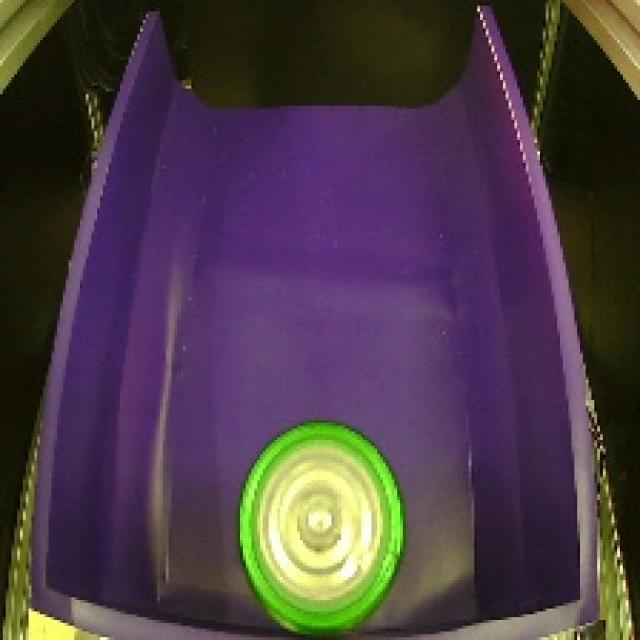battery: (232, 411, 416, 640)
